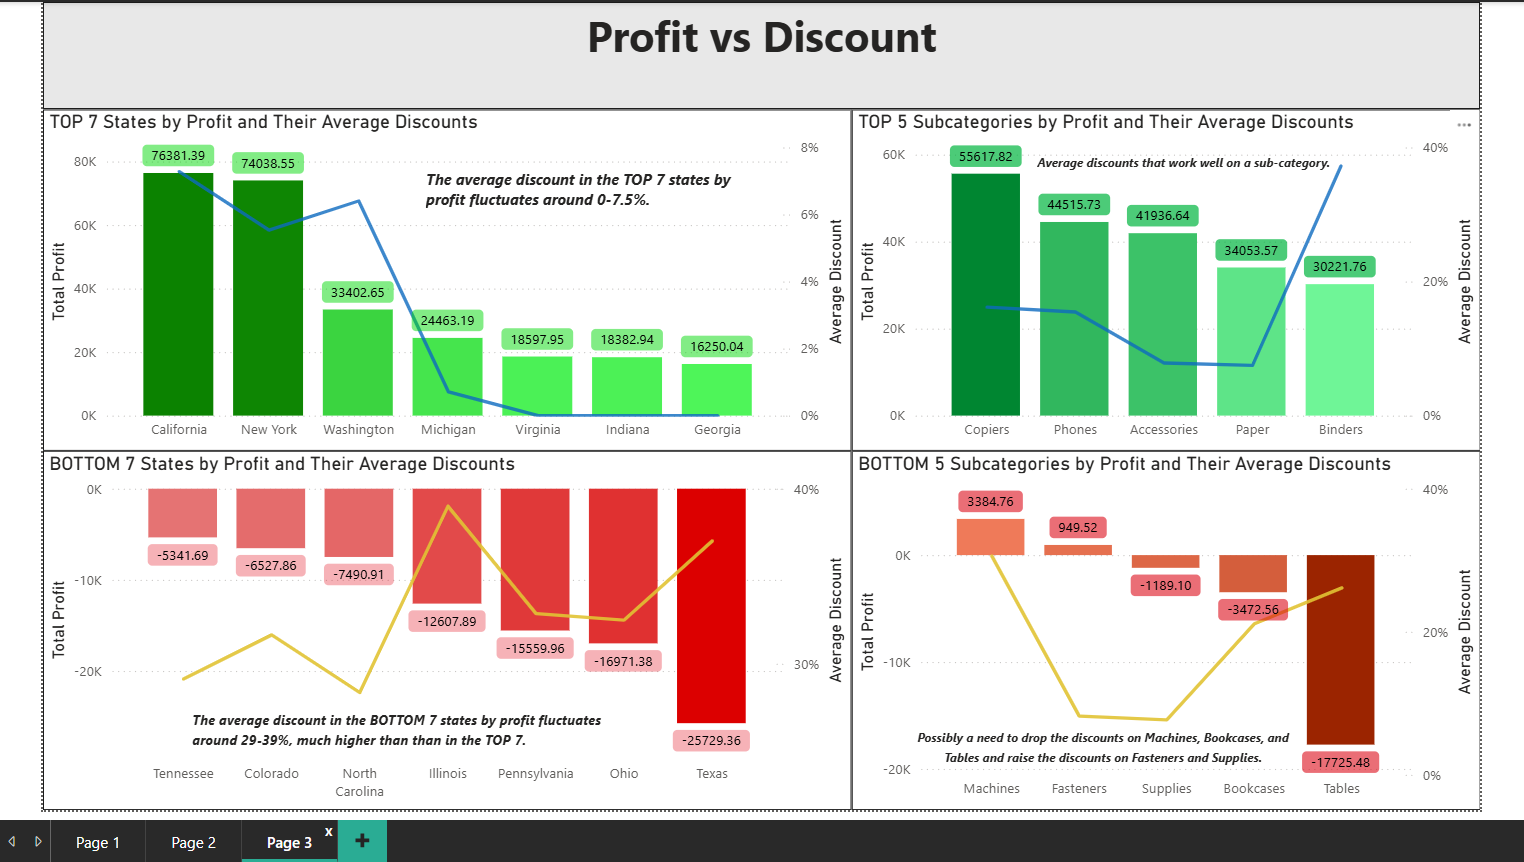

What the dashboard file says about the page in this screenshot:
{"tool":"powerbi","page":{"name":"Page 3","canvas":[1280,720],"ordinal":2},"visuals":[{"type":"textbox","box":[10,0,280,280],"z":0},{"type":"lineClusteredColumnComboChart","title":"TOP 7 States by Profit and Their Average Discounts","fields":{"Y":["Sum(Superstore.Profit)"],"Category":["Superstore.State"],"Y2":["Avg(Superstore.Discount)"]},"box":[0,96,720,304],"z":1000},{"type":"lineClusteredColumnComboChart","title":"TOP 5 Subcategories by Profit and Their Average Discounts","fields":{"Category":["Superstore.Sub-Category"],"Y2":["Avg(Superstore.Discount)"],"Y":["Sum(Superstore.Profit)"]},"box":[720,96,560,304],"z":2000},{"type":"lineClusteredColumnComboChart","title":"BOTTOM 7 States by Profit and Their Average Discounts","fields":{"Category":["Superstore.State"],"Y2":["Avg(Superstore.Discount)"],"Y":["Sum(Superstore.Profit)"]},"box":[0,400,720,320],"z":3000},{"type":"lineClusteredColumnComboChart","title":"BOTTOM 5 Subcategories by Profit and Their Average Discounts","fields":{"Category":["Superstore.Sub-Category"],"Y":["Sum(Superstore.Profit)"],"Y2":["Avg(Superstore.Discount)"]},"box":[720,400,560,320],"z":4000},{"type":"textbox","box":[336,144,304,48],"z":5000},{"type":"textbox","box":[128,624,400,48],"z":6000},{"type":"textbox","box":[768,640,352,48],"z":7000},{"type":"textbox","box":[880,128,272,32],"z":8000},{"type":"textbox","box":[0,0,1280,96],"z":9000}]}

Visuals, with their boxes in screenshot pixels (x1, y1, x2, y2):
textbox: BBox(47, 0, 364, 317)
"TOP 7 States by Profit and Their Average Discounts" lineClusteredColumnComboChart: BBox(36, 109, 851, 453)
"TOP 5 Subcategories by Profit and Their Average Discounts" lineClusteredColumnComboChart: BBox(851, 109, 1485, 453)
"BOTTOM 7 States by Profit and Their Average Discounts" lineClusteredColumnComboChart: BBox(36, 453, 851, 815)
"BOTTOM 5 Subcategories by Profit and Their Average Discounts" lineClusteredColumnComboChart: BBox(851, 453, 1485, 815)
textbox: BBox(416, 163, 761, 217)
textbox: BBox(181, 707, 634, 761)
textbox: BBox(906, 725, 1304, 779)
textbox: BBox(1032, 145, 1340, 181)
textbox: BBox(36, 0, 1485, 109)
